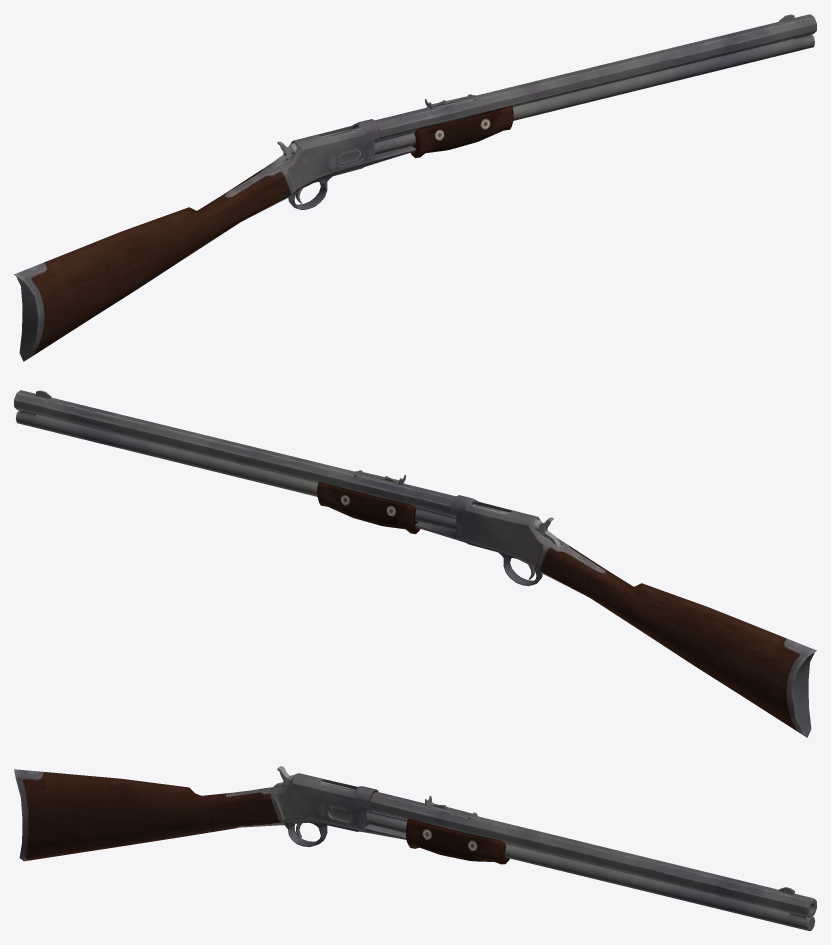
The model's file is pump_rifle.gltf.
3 renders of one model, top to bottom at view 1: azimuth 30°, elevation 25°; view 2: azimuth 150°, elevation 25°; view 3: azimuth 330°, elevation 25°, orthographic.
Visible parts, largest first — view 1: pump_rifle_body, pump_rifle_pump; view 2: pump_rifle_body, pump_rifle_pump; view 3: pump_rifle_body, pump_rifle_pump.
Part boxes in pixels (box(x1,y1,x2,y2)): pump_rifle_body: box(14, 14, 816, 361); pump_rifle_pump: box(410, 105, 513, 158); pump_rifle_body: box(14, 390, 816, 737); pump_rifle_pump: box(317, 481, 420, 534); pump_rifle_body: box(14, 766, 816, 930); pump_rifle_pump: box(405, 818, 509, 864).
Size of the model in its own units: 0.968 by 0.1885 by 0.0344.
1 material, 1 textured.
